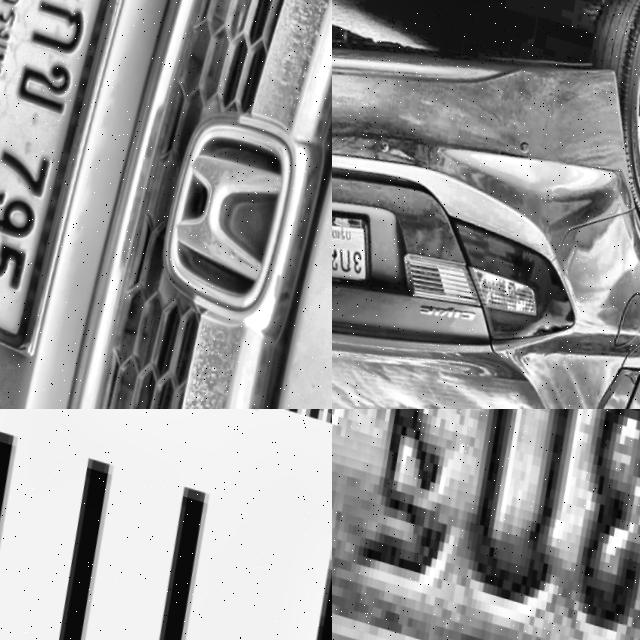license-plate: (0, 409, 332, 640), (332, 409, 640, 640), (0, 0, 332, 136), (332, 182, 383, 298)
